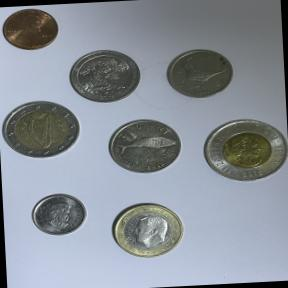coin: (197, 114, 288, 190), (103, 198, 190, 264), (0, 96, 84, 164), (102, 115, 187, 181), (62, 43, 146, 107), (0, 4, 65, 59), (28, 189, 92, 241)
